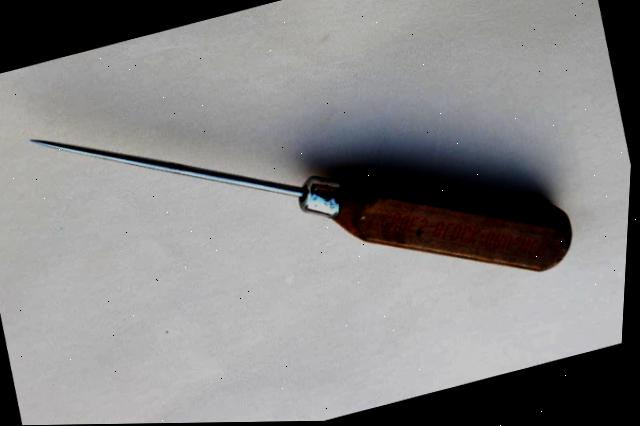ice pick: (18, 9, 590, 393)
